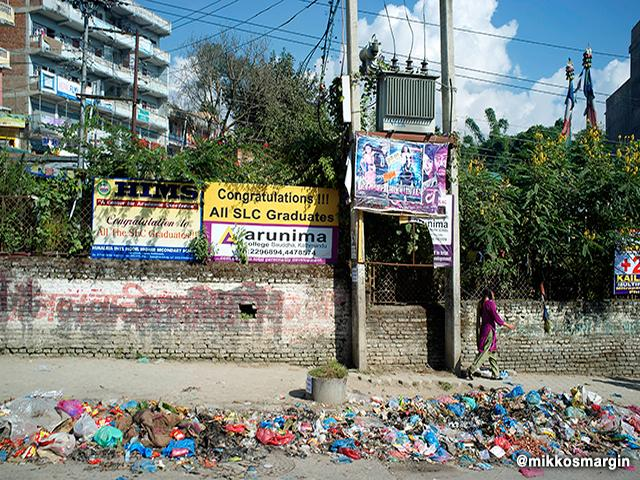garbage: (16, 397, 620, 447)
